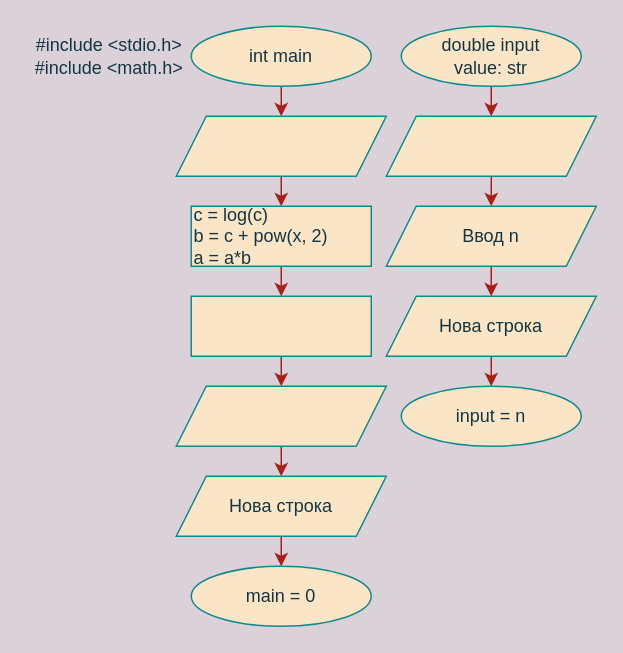
The diagram is 623 pixels wide and 653 high, and some of its shapes have lost their labels. Here are the shapes that lost their labels. From the top down, the box of each, then its label:
(175, 115, 386, 176): input x, a, c
(385, 115, 596, 176): Вивід value
(190, 295, 371, 356): y = pow(sin(a*x), 3) + b / pow(cos(x), 2)
(175, 385, 386, 446): Вивід y
